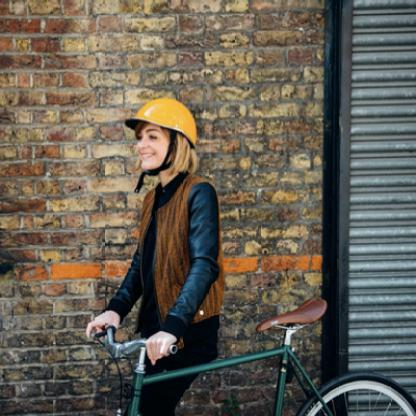Helmet: (119, 89, 203, 178)
